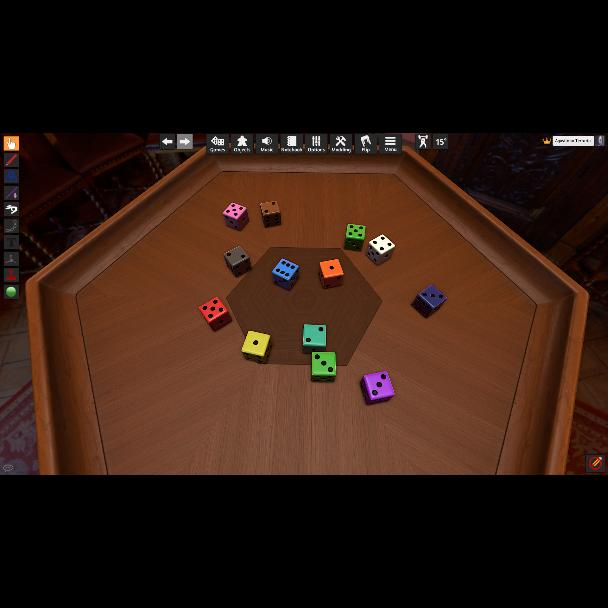d6: (200, 298, 232, 332), (360, 371, 392, 405), (412, 284, 444, 318), (241, 331, 271, 363), (271, 258, 299, 292), (367, 234, 395, 266), (223, 246, 250, 278), (312, 352, 337, 382), (223, 202, 249, 230), (319, 258, 343, 288), (302, 324, 326, 352), (344, 224, 365, 252), (260, 202, 280, 228)
